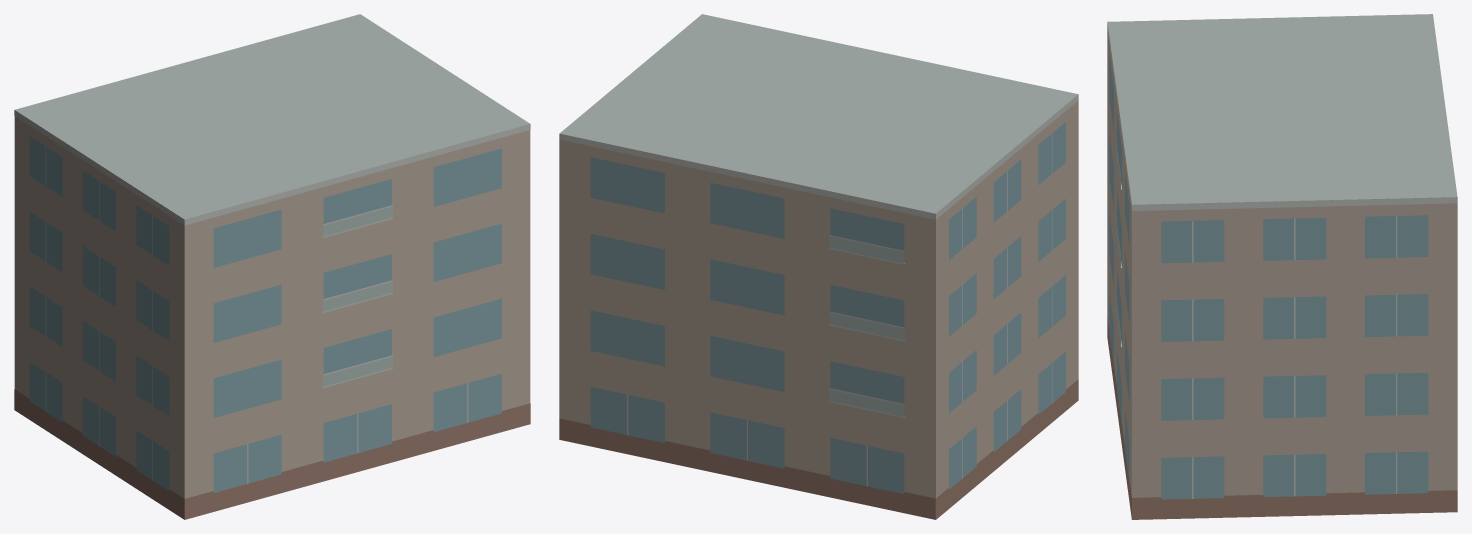
Rendered from survey-upis-32741466.glb.
The picture shows the model from 3 angles, left to right: view 1: azimuth 30°, elevation 25°; view 2: azimuth 150°, elevation 25°; view 3: azimuth 270°, elevation 25°; orthographic projection. The views are drawn at different scales.
Visible parts, largest first — view 1: survey-upis-32741466.tmp; view 2: survey-upis-32741466.tmp; view 3: survey-upis-32741466.tmp.
Part boxes in pixels (x1,y1,x2,y2): survey-upis-32741466.tmp: (14,14,530,519); survey-upis-32741466.tmp: (559,14,1078,519); survey-upis-32741466.tmp: (1107,14,1457,519).
Size of the model in its own units: 16.05 by 12.35 by 12.45.
